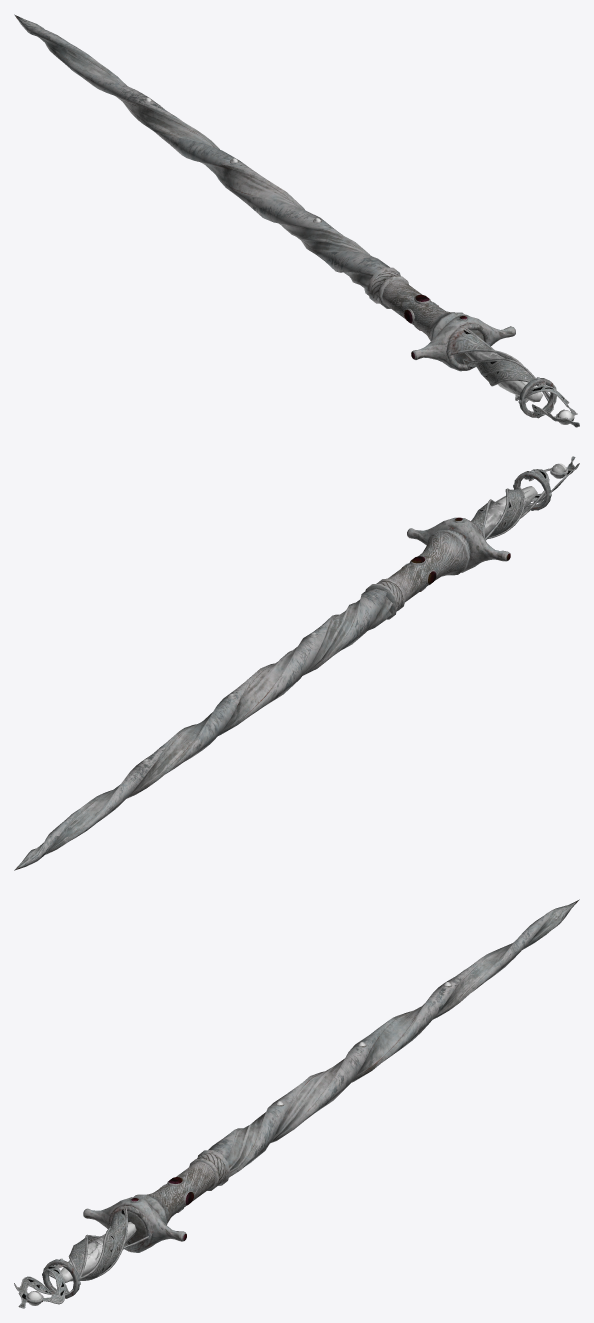
The model's file is carianregalscepter.fbx.
The picture shows the model from 3 angles, top to bottom: view 1: azimuth 30°, elevation 25°; view 2: azimuth 150°, elevation 25°; view 3: azimuth 330°, elevation 25°; orthographic projection.
Visible parts, largest first — view 1: WP_A_1325, WP_A_1325.001, WP_A_1325.002; view 2: WP_A_1325, WP_A_1325.001, WP_A_1325.002; view 3: WP_A_1325, WP_A_1325.001, WP_A_1325.002.
Part boxes in pixels (bbox=[...]): WP_A_1325: bbox=[14, 14, 579, 427]; WP_A_1325.001: bbox=[450, 329, 579, 426]; WP_A_1325.002: bbox=[144, 97, 572, 424]; WP_A_1325: bbox=[14, 456, 579, 870]; WP_A_1325.001: bbox=[471, 457, 575, 537]; WP_A_1325.002: bbox=[143, 463, 566, 763]; WP_A_1325: bbox=[14, 899, 579, 1308]; WP_A_1325.001: bbox=[18, 1208, 146, 1307]; WP_A_1325.002: bbox=[27, 982, 450, 1305].
Bounding box in the file's own units: 13.94 × 6.84 × 133.
3 materials, 3 textured.
